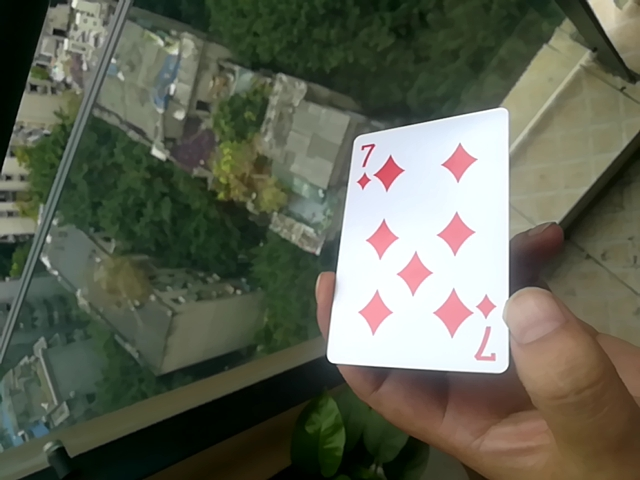fk 7: (327, 107, 511, 378)
